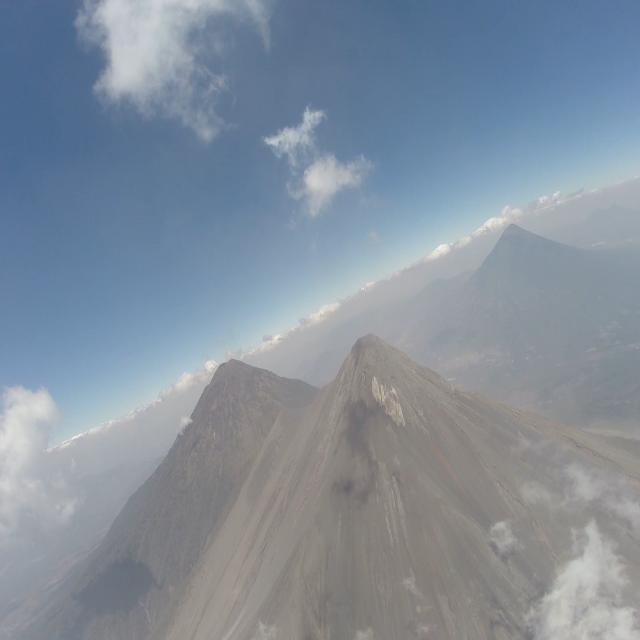Summit: (313, 331, 430, 434)
